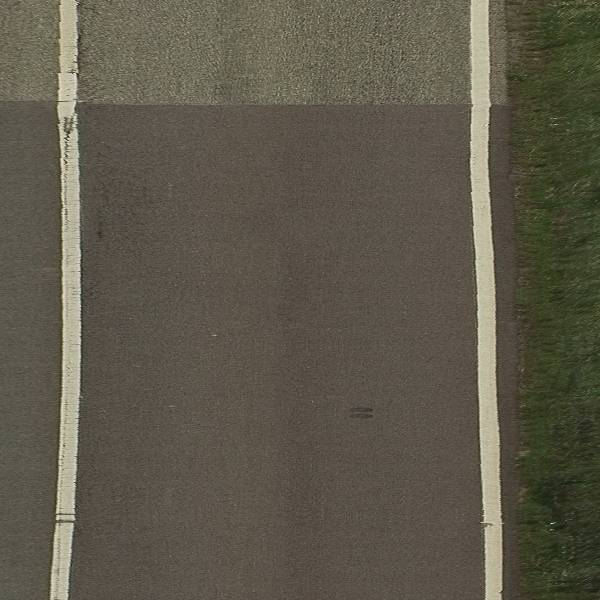road_damage: (58, 66, 511, 142), (345, 401, 381, 425)
